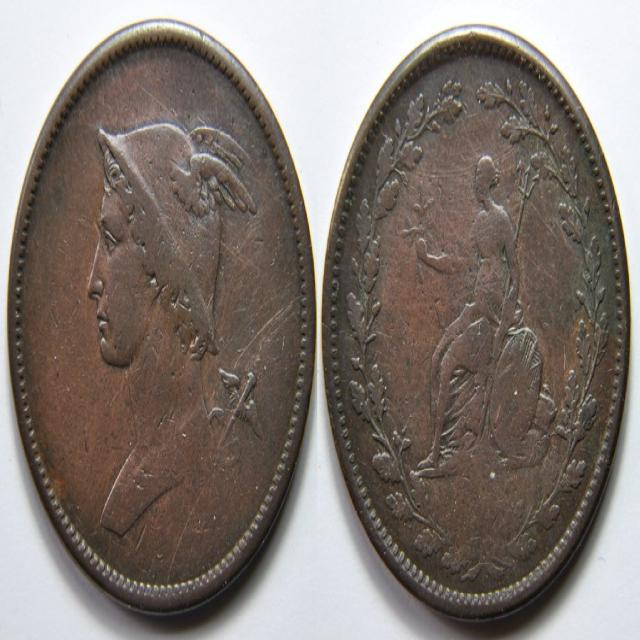Coin: (320, 15, 634, 625), (6, 14, 318, 621)
